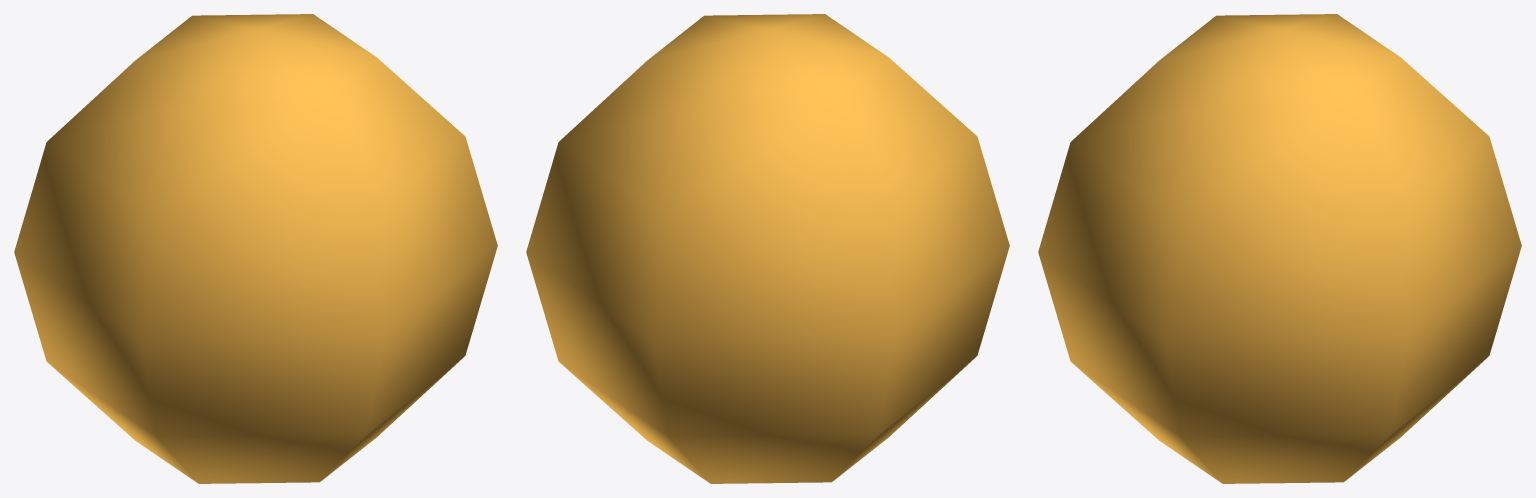
The model's file is Prop_PastryTeaTable_Food_Red.glb.
3 renders of one model, left to right at view 1: azimuth 30°, elevation 25°; view 2: azimuth 150°, elevation 25°; view 3: azimuth 270°, elevation 25°, orthographic.
Visible parts, largest first — view 1: Prop_PastryTeaTable_Food_Red; view 2: Prop_PastryTeaTable_Food_Red; view 3: Prop_PastryTeaTable_Food_Red.
Boxes of the visible parts, left/top/right/bottom form: Prop_PastryTeaTable_Food_Red: left=14, top=14, right=497, bottom=483; Prop_PastryTeaTable_Food_Red: left=526, top=14, right=1009, bottom=483; Prop_PastryTeaTable_Food_Red: left=1038, top=14, right=1521, bottom=483.
Size of the model in its own units: 1.1 by 1.25 by 1.25.
Materials: 1 (1 with a texture image).
